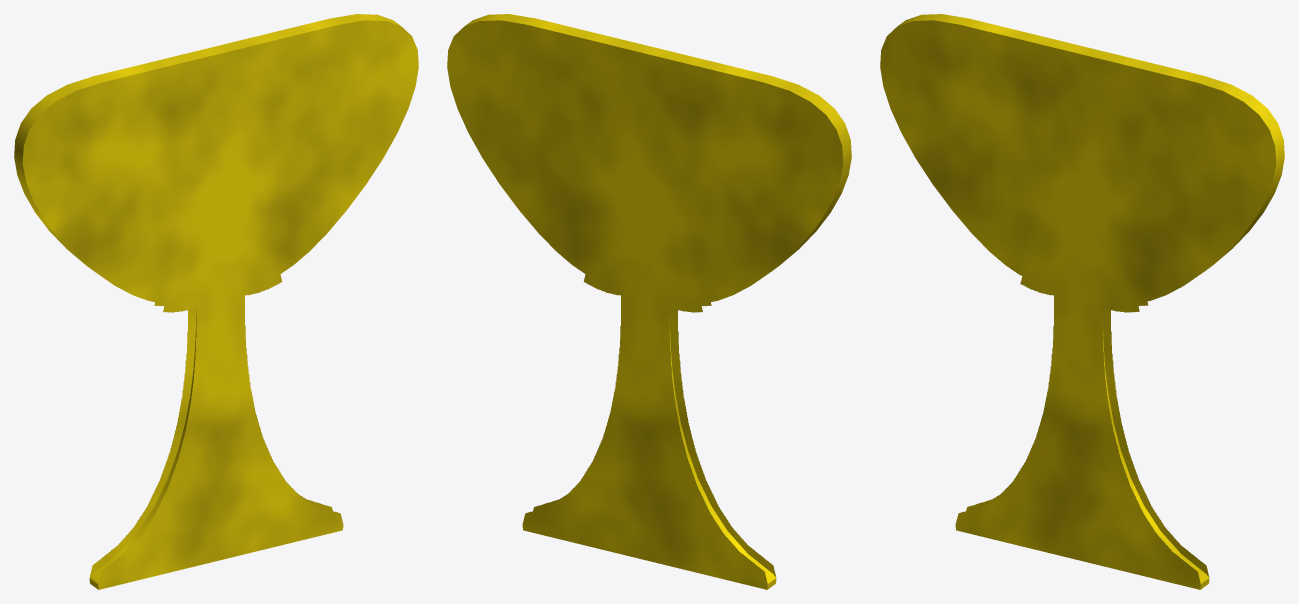
Rendered from Trophy.fbx.
3 views of the same model, side by side, from view 1: azimuth 30°, elevation 25°; view 2: azimuth 150°, elevation 25°; view 3: azimuth 330°, elevation 25° (orthographic).
Parts seen in each view (by area): view 1: BezierCurve; view 2: BezierCurve; view 3: BezierCurve.
Part boxes in pixels (x1,y1,x2,y2): BezierCurve: (14,14,418,589); BezierCurve: (447,14,851,589); BezierCurve: (880,14,1284,589).
Bounding box in the file's own units: 335 × 410 × 12.64.
1 material, 1 textured.
